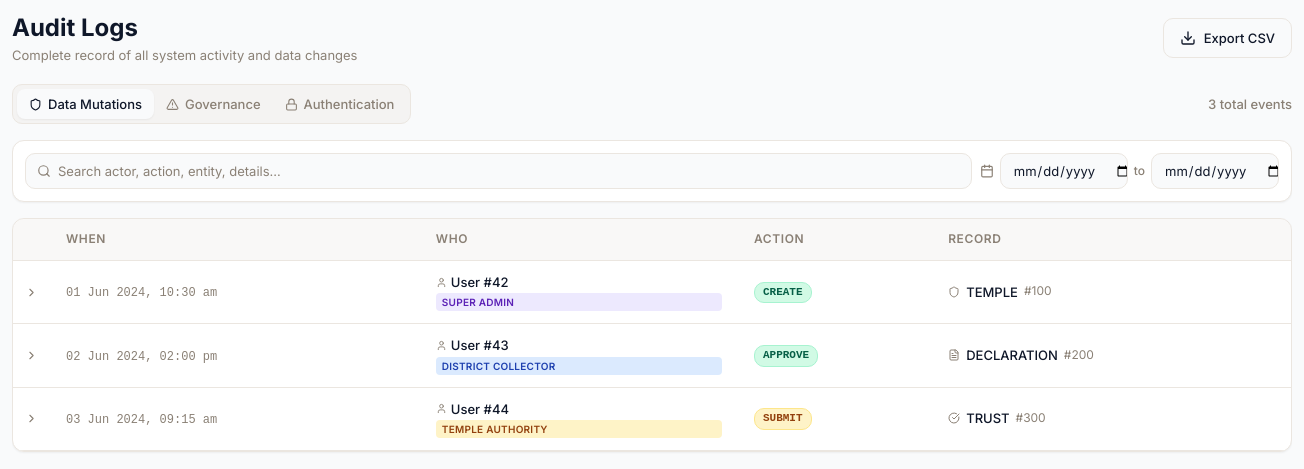
AuditLogPage › should switch to Authentication tab when clicked
Click the tab "Authentication".
click(340, 104)  # box 273,89 -> 406,119
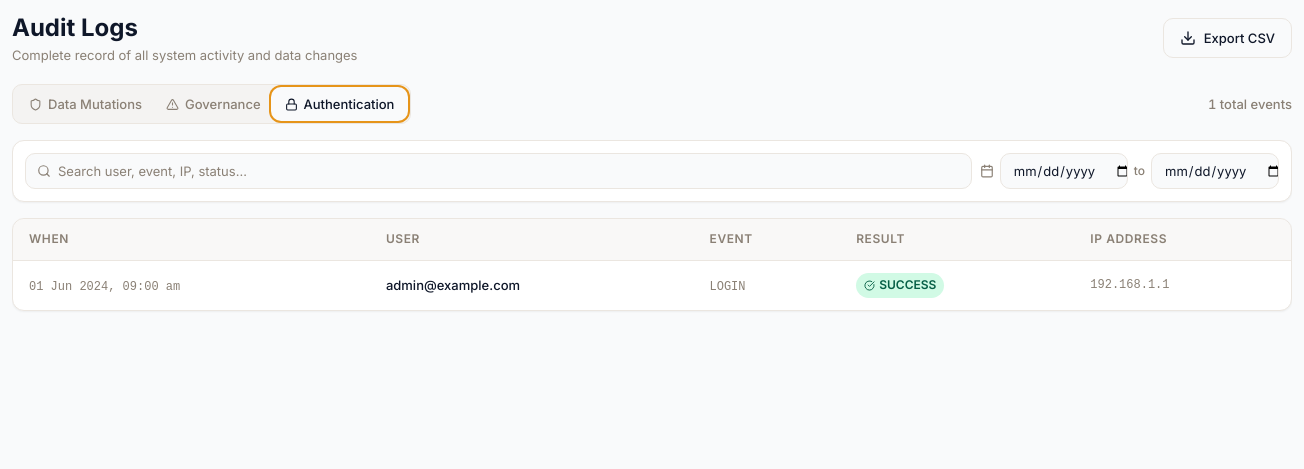
Now the text "LOGIN" is shown, box 710,280 -> 746,294
